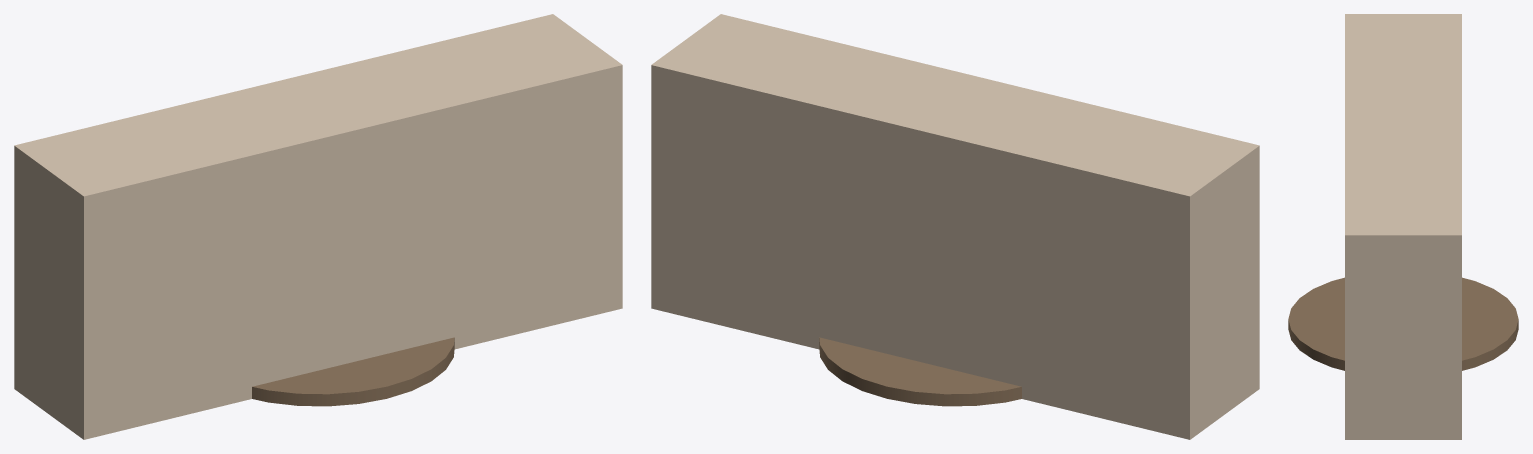
Rendered from noa-arch-console.glb.
3 views of the same model, side by side, from view 1: azimuth 30°, elevation 25°; view 2: azimuth 150°, elevation 25°; view 3: azimuth 270°, elevation 25° (orthographic). The views are drawn at different scales.
Visible parts, largest first — view 1: noa-arch-console-placeholder, noa-arch-console-plinth; view 2: noa-arch-console-placeholder, noa-arch-console-plinth; view 3: noa-arch-console-placeholder, noa-arch-console-plinth.
Boxes of the visible parts, <box> form: noa-arch-console-placeholder: <box>14,14,622,439</box>; noa-arch-console-plinth: <box>252,337,454,406</box>; noa-arch-console-placeholder: <box>651,14,1259,439</box>; noa-arch-console-plinth: <box>819,337,1021,406</box>; noa-arch-console-placeholder: <box>1345,14,1461,439</box>; noa-arch-console-plinth: <box>1288,277,1518,370</box>.
Bounding box in the file's own units: 1.83 × 0.79 × 0.8052.
